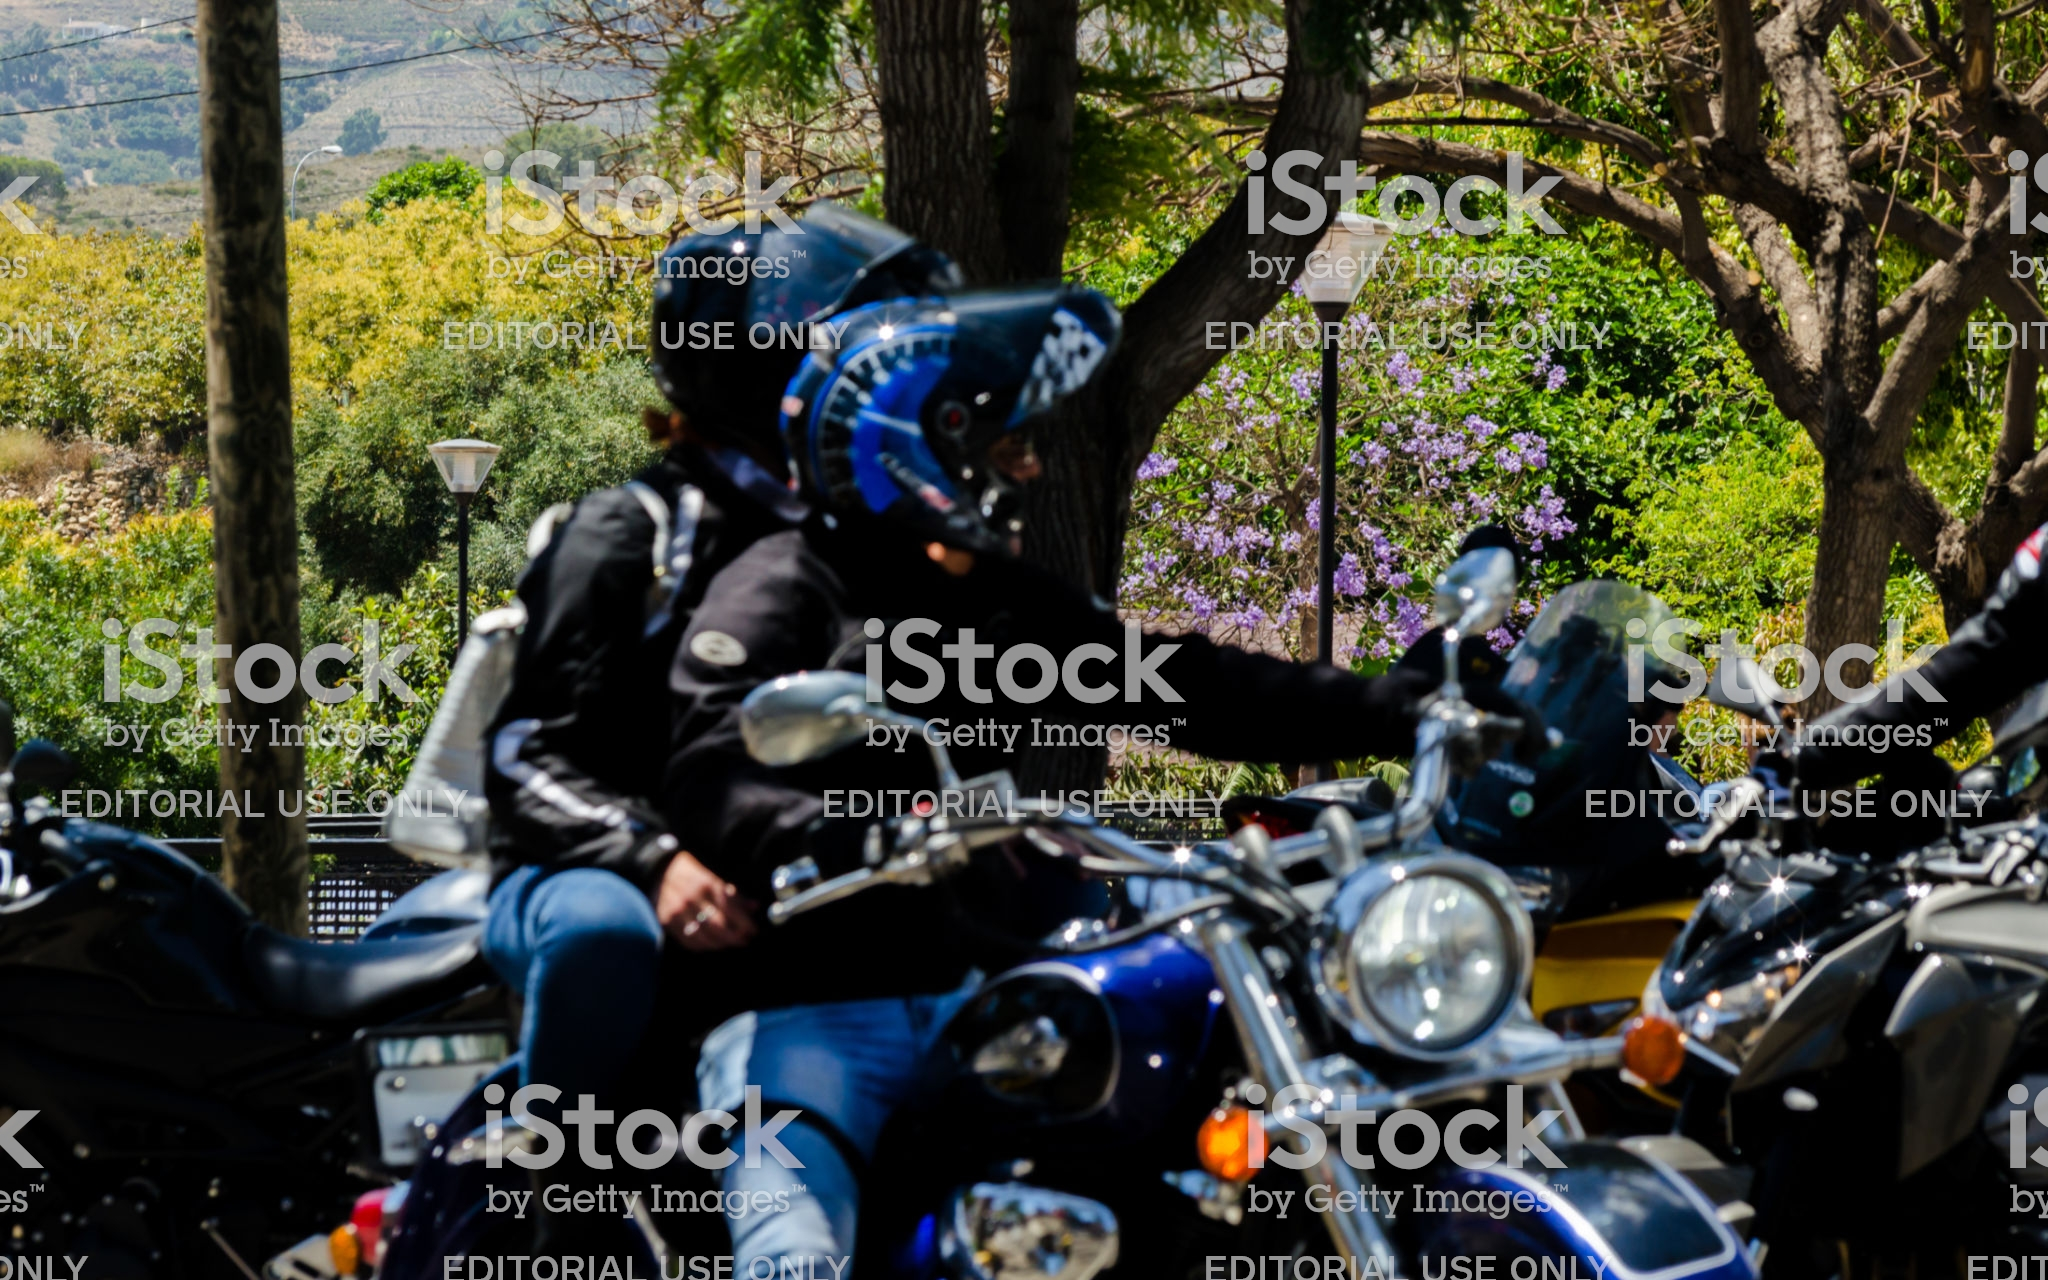helmet: (779, 288, 1135, 588)
